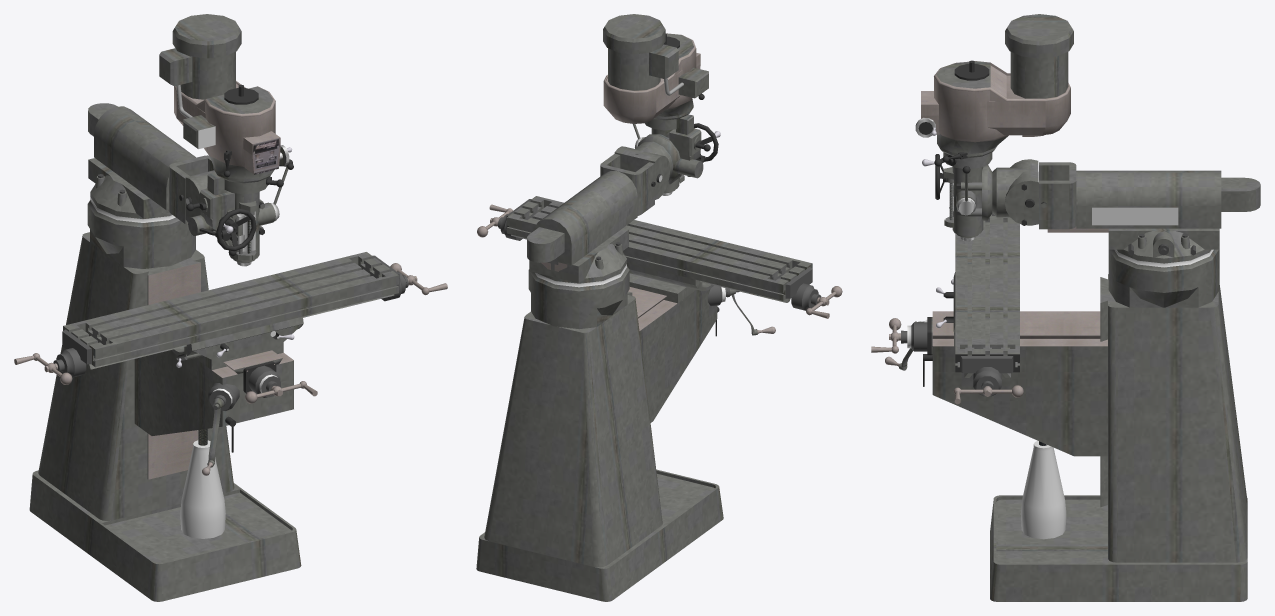
Rendered from fresadora2.glb.
3 renders of one model, left to right at view 1: azimuth 30°, elevation 25°; view 2: azimuth 150°, elevation 25°; view 3: azimuth 270°, elevation 25°, orthographic. The views are drawn at different scales.
Parts seen in each view (by area): view 1: G-Object.118, G-Object.149, G-Object.148, _G-Object.100 (Loose Mesh), G-Object.136, _G-Object.134 (Loose Mesh), G-Object.145, G-Object.109, G-Object.111, _G-Object.112 (Loose Mesh); view 2: G-Object.149, G-Object.118, G-Object.148, _G-Object.100 (Loose Mesh), G-Object.136, _G-Object.134 (Loose Mesh), G-Object.109, G-Object.137; view 3: G-Object.149, G-Object.118, G-Object.148, G-Object.136, _G-Object.100 (Loose Mesh), _G-Object.134 (Loose Mesh), G-Object.145, G-Object.109, G-Object.137, G-Object.108.
Part boxes in pixels (x1,y1,x2,y2): G-Object.118: (14, 252, 447, 475); G-Object.149: (38, 232, 234, 520); G-Object.148: (29, 470, 301, 601); _G-Object.100 (Loose Mesh): (159, 14, 275, 266); G-Object.136: (88, 103, 215, 223); _G-Object.134 (Loose Mesh): (87, 158, 195, 268); G-Object.145: (180, 428, 225, 538); G-Object.109: (180, 51, 235, 99); G-Object.111: (243, 131, 280, 174); _G-Object.112 (Loose Mesh): (216, 208, 256, 251); G-Object.149: (484, 291, 662, 567); G-Object.118: (477, 196, 842, 422); G-Object.148: (476, 469, 723, 601); _G-Object.100 (Loose Mesh): (603, 14, 708, 195); G-Object.136: (527, 146, 670, 265); _G-Object.134 (Loose Mesh): (528, 228, 629, 329); G-Object.109: (608, 48, 660, 90); G-Object.137: (635, 134, 680, 182); G-Object.149: (1100, 274, 1247, 562); G-Object.118: (885, 213, 1107, 456); G-Object.148: (990, 495, 1247, 601); G-Object.136: (1005, 159, 1260, 229); _G-Object.100 (Loose Mesh): (934, 14, 1073, 241); _G-Object.134 (Loose Mesh): (1108, 228, 1219, 307); G-Object.145: (1020, 441, 1066, 539); G-Object.109: (1010, 52, 1068, 98); G-Object.137: (982, 164, 1033, 220); G-Object.108: (954, 60, 989, 80).
Bounding box in the file's own units: 1.64 × 2.11 × 1.38.
Materials: 13 (7 with a texture image).
